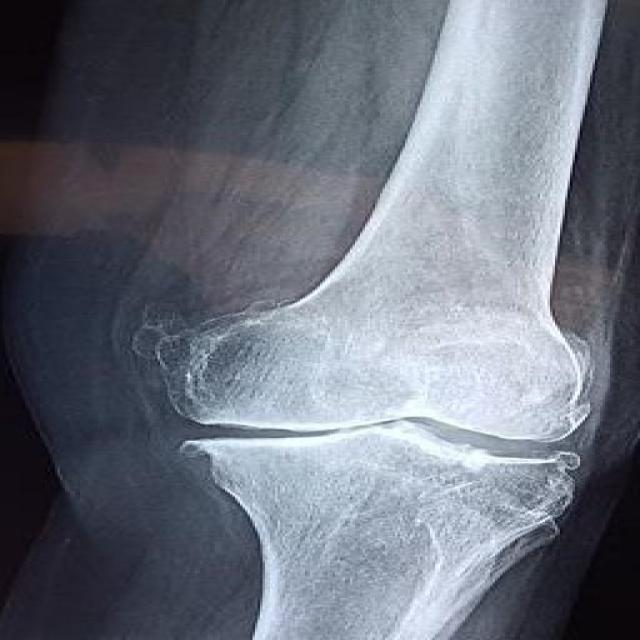Hairline: (392, 429, 592, 492)
